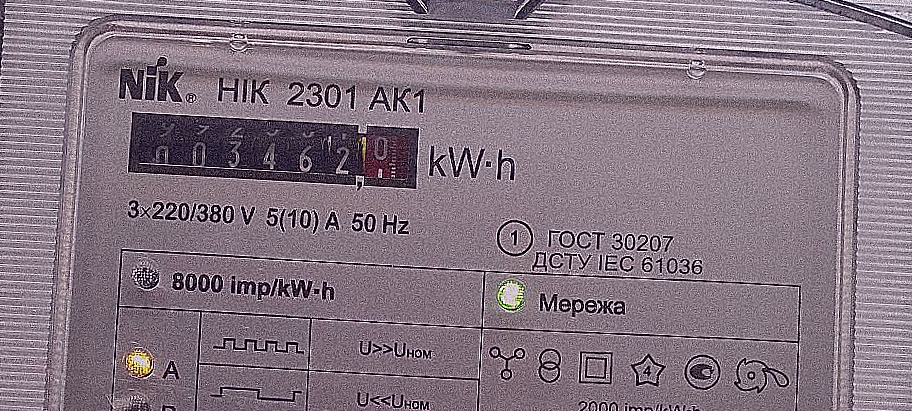0: (188, 138, 208, 168), (371, 133, 389, 162), (150, 141, 170, 165)
2: (332, 143, 352, 176)
3: (223, 138, 243, 171)
4: (260, 139, 279, 172)
6: (294, 141, 316, 176)
9: (155, 120, 176, 140)
screen: (114, 99, 430, 207)
